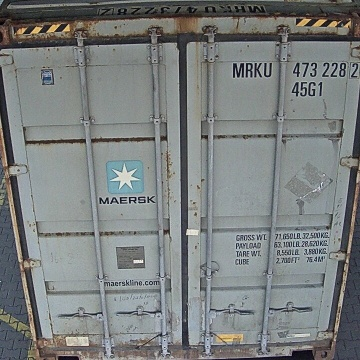serial_id: (233, 60, 360, 77)
